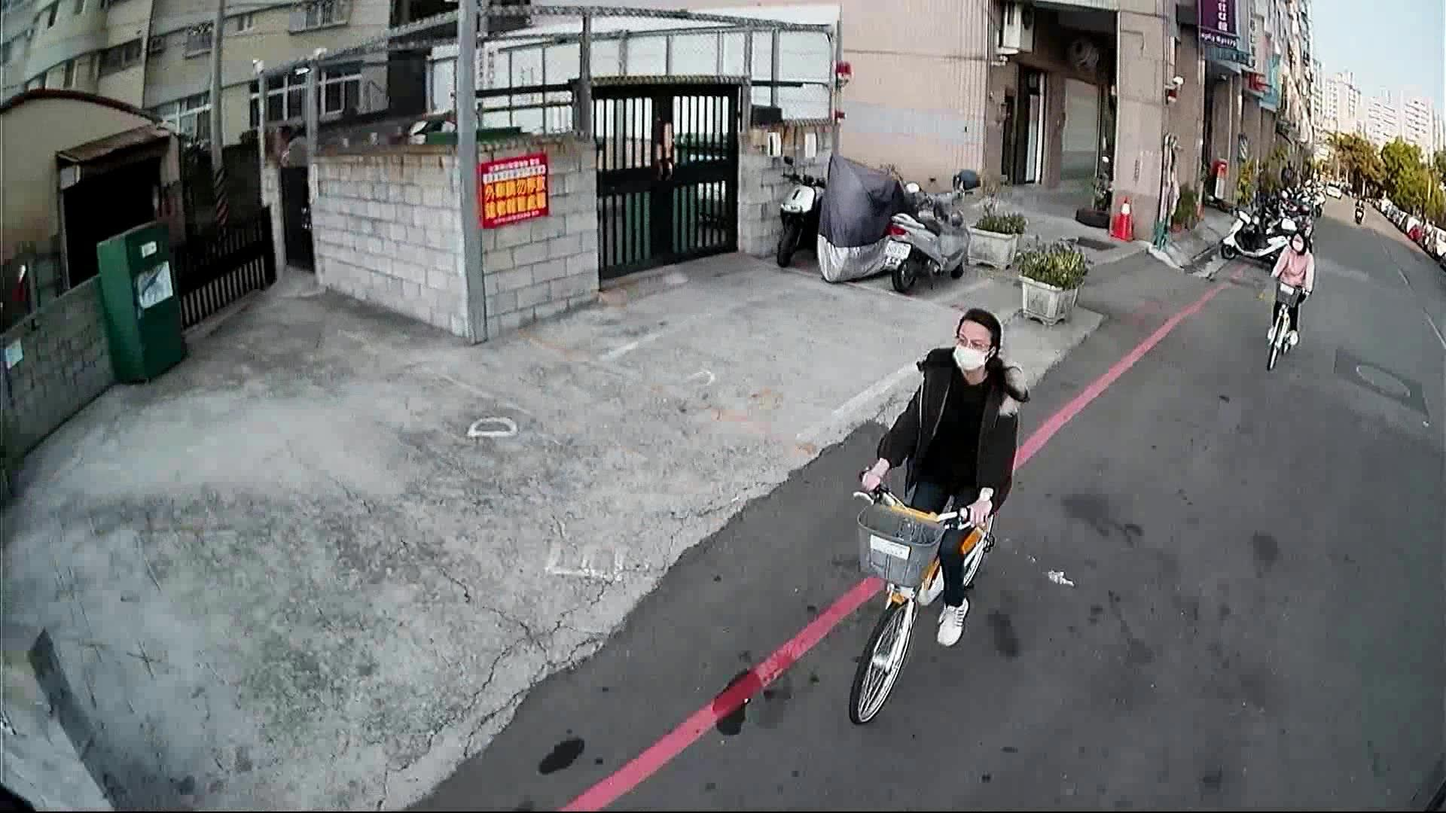person: (852, 300, 1031, 649), (1261, 227, 1318, 349)
